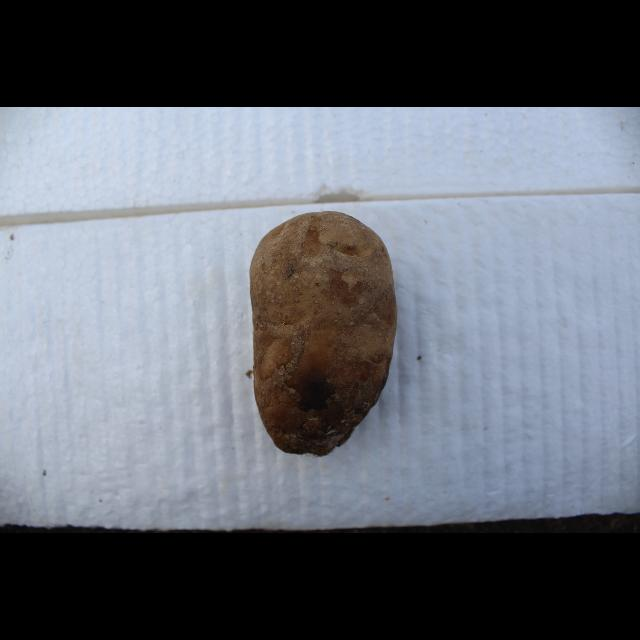Diseased-fungal potato: (241, 212, 405, 460)
